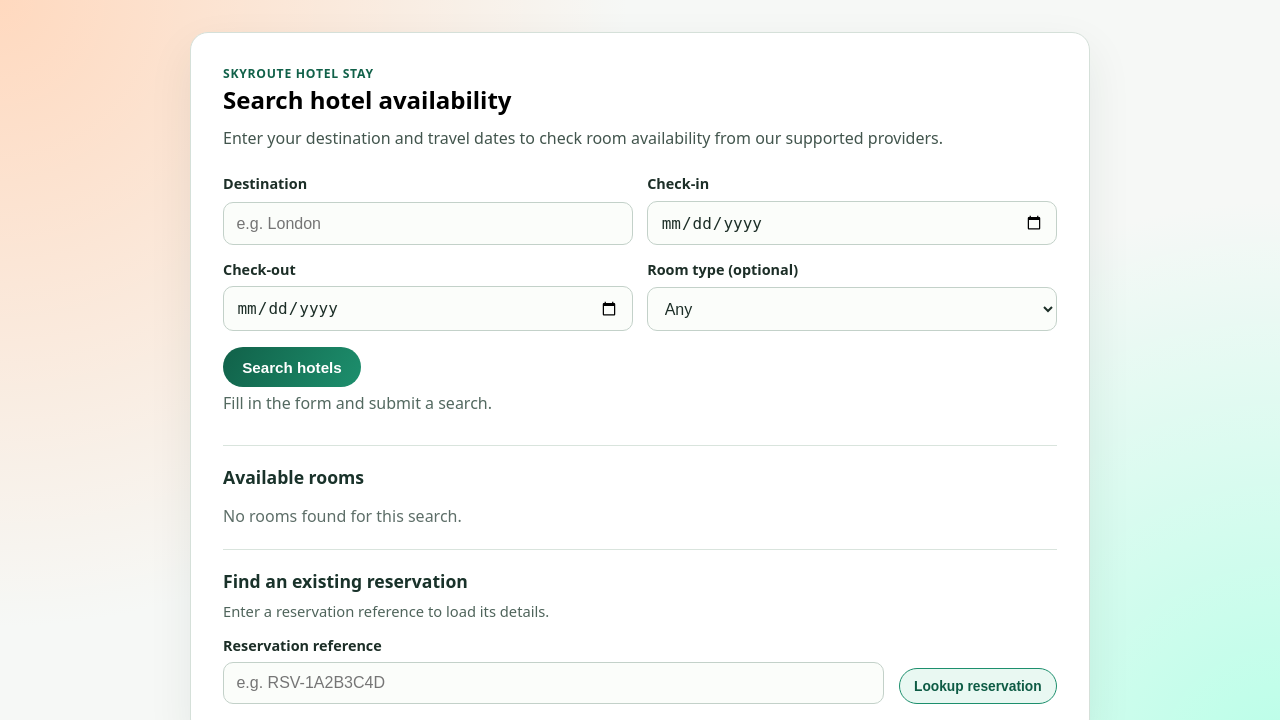
Test: App — lookup not-found state › shows validation when lookup is submitted with an empty reference
Click the button "Lookup reservation" at (978, 686), box [899,668,1057,704]
(page scrolled)
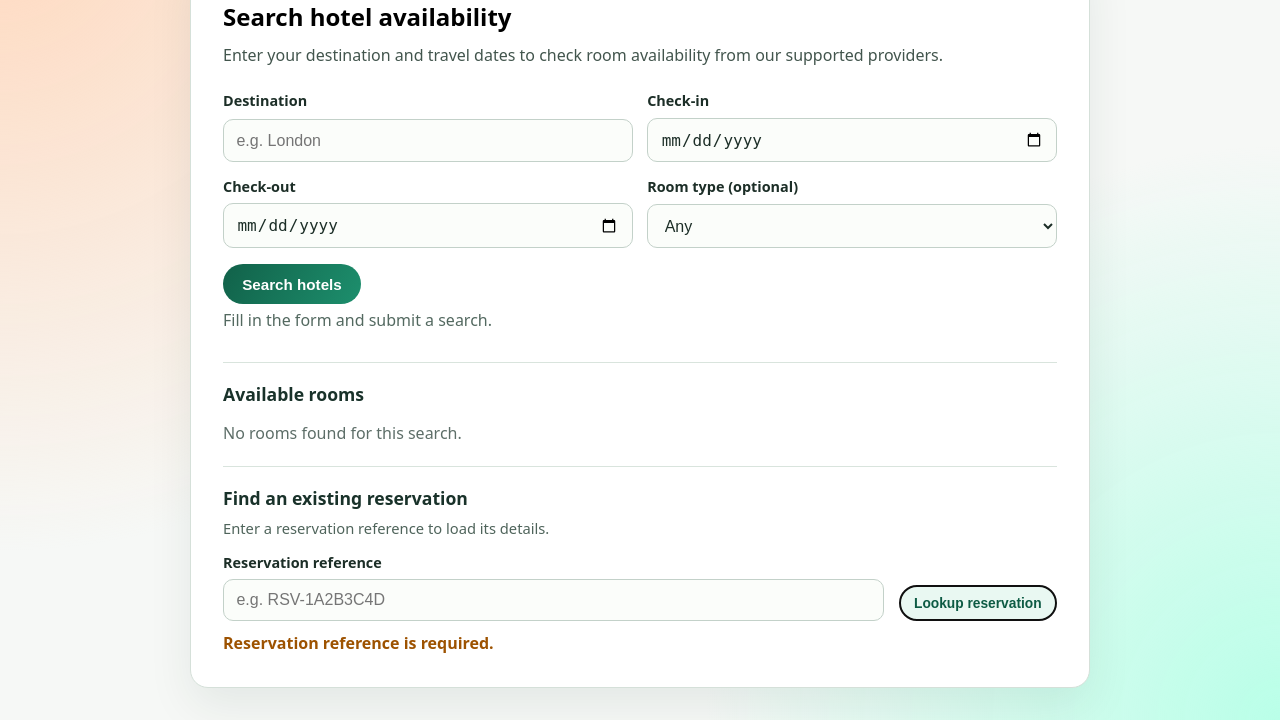
expect the text "Reservation reference is required." is shown: met, box [223,632,494,654]
